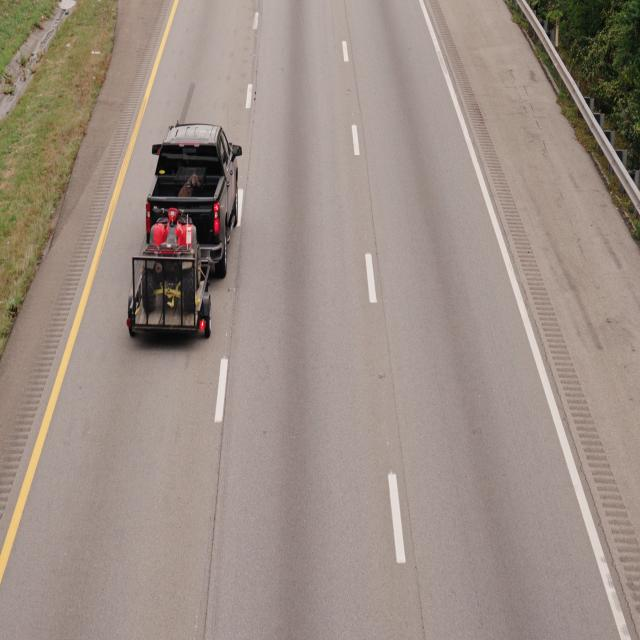Car: (125, 122, 245, 350)
